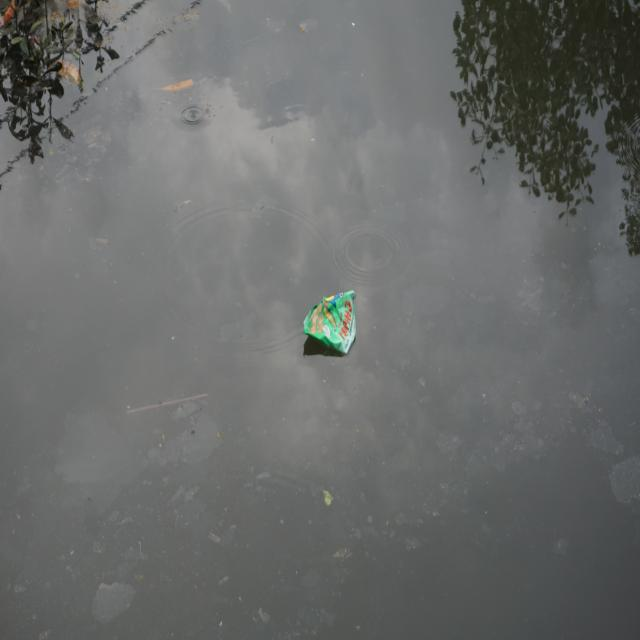Bungkus Makanan: (300, 288, 363, 368)
